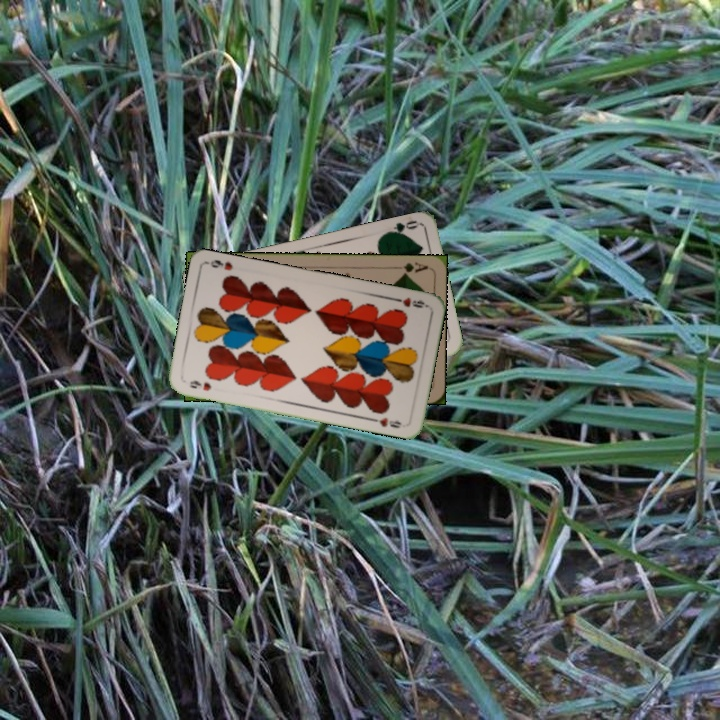GA: (390, 258, 430, 278)
GO: (381, 216, 421, 238)
H9: (389, 293, 430, 311), (186, 376, 214, 393)
